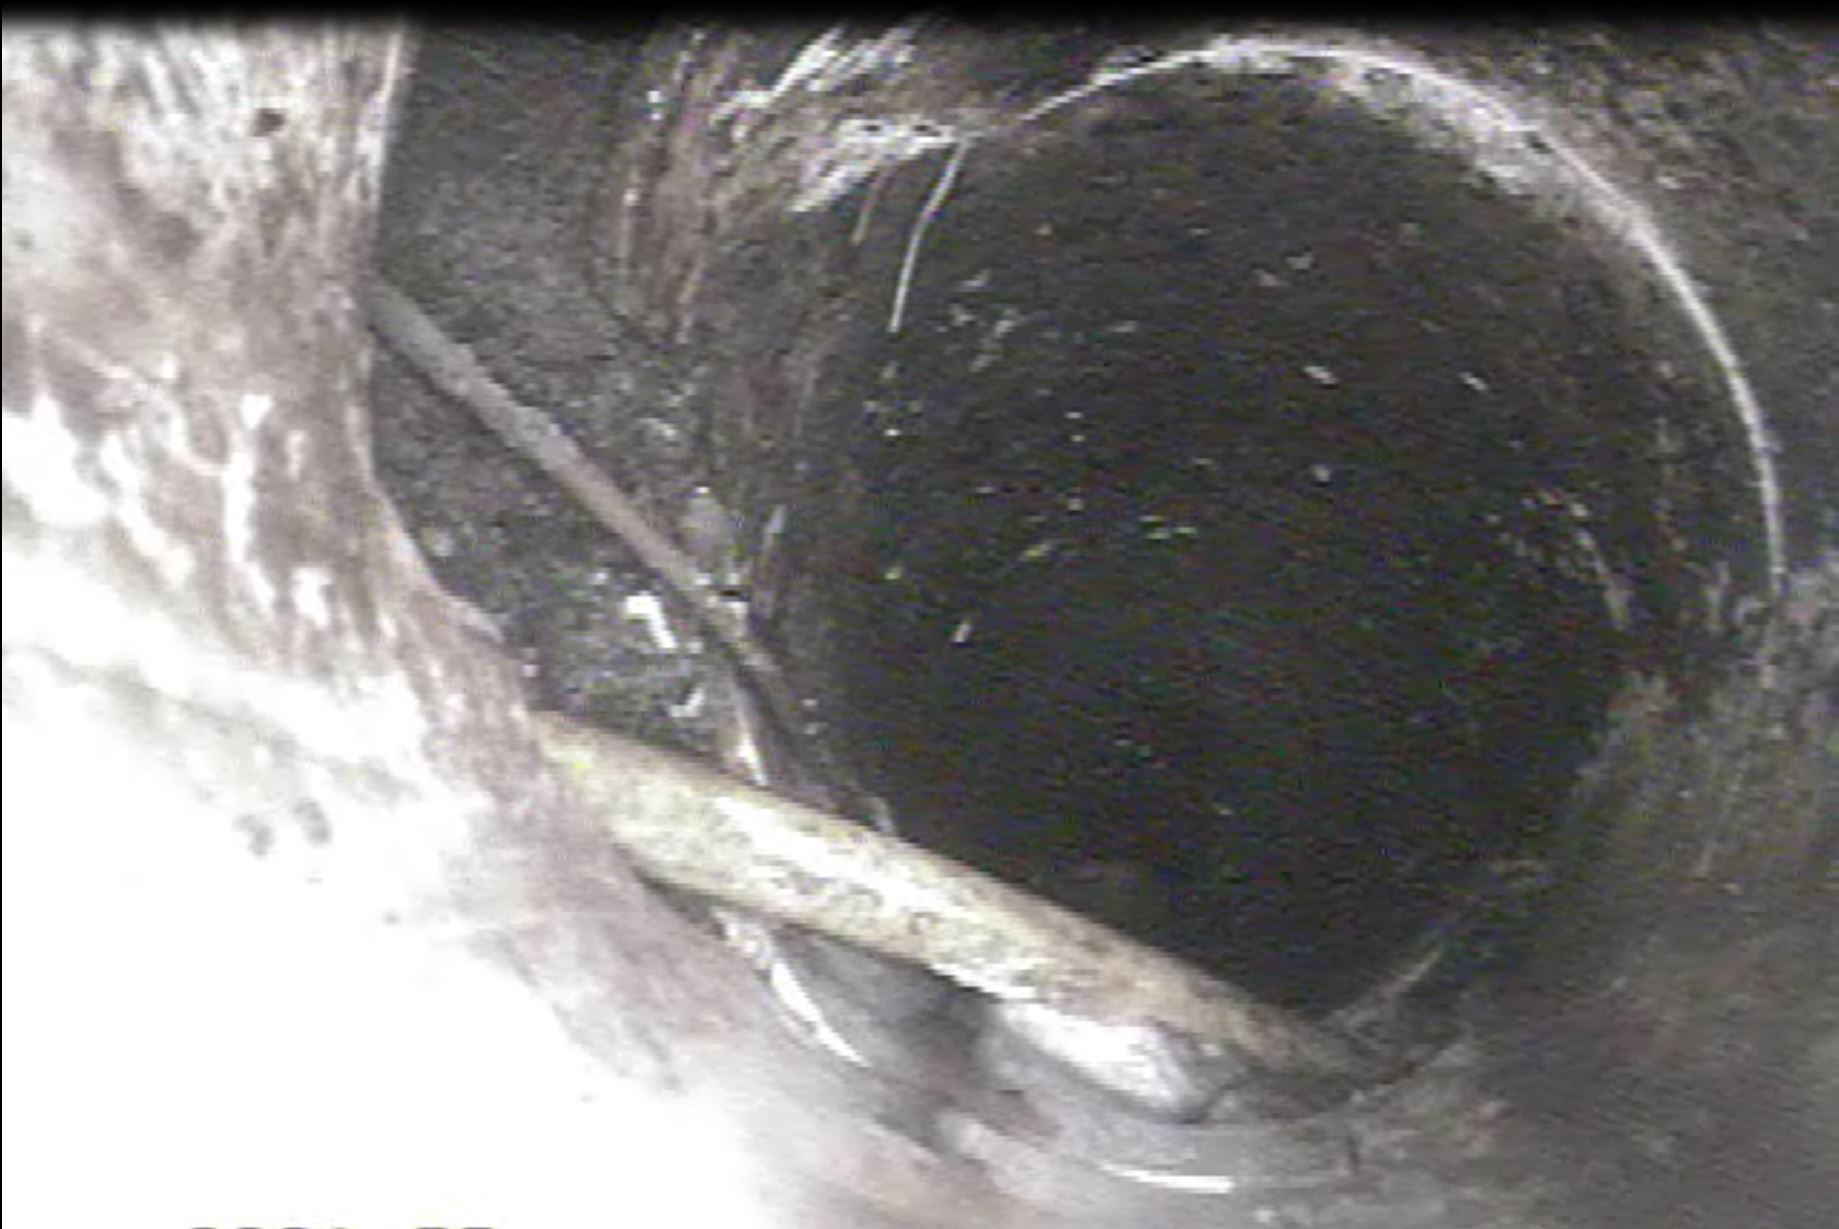cb: (405, 647, 1491, 1127)
